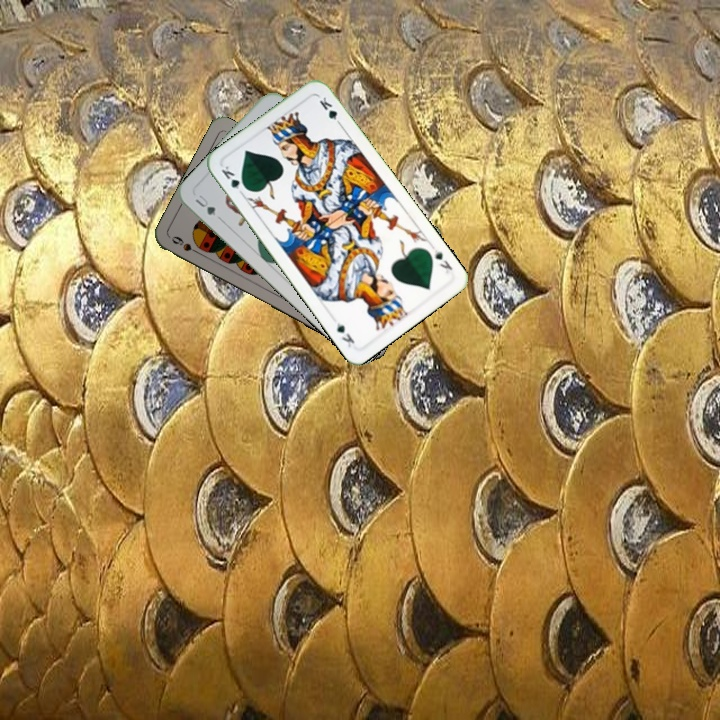GK: (217, 162, 250, 193), (430, 245, 455, 276)
GU: (191, 190, 219, 218)
S9: (167, 232, 205, 258)
